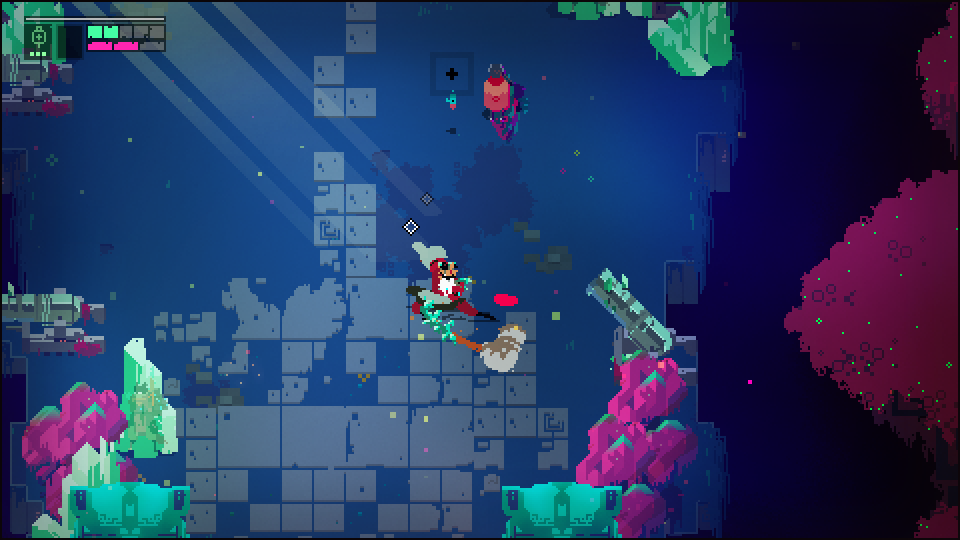hanged_man: (412, 236, 482, 346)
player: (481, 63, 510, 120)
